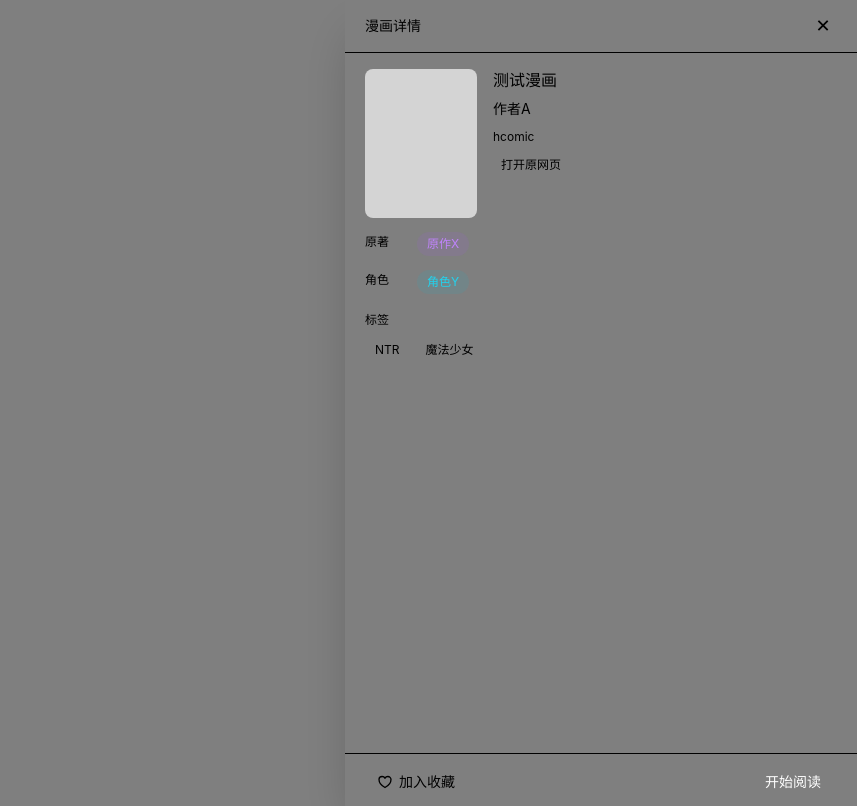
Test: ComicInfoDrawer - 点击 tag 加入搜索 › 连续点击多个标签都追加搜索且抽屉保持打开
Click the button "NTR": (387, 350) [365,338,410,362]
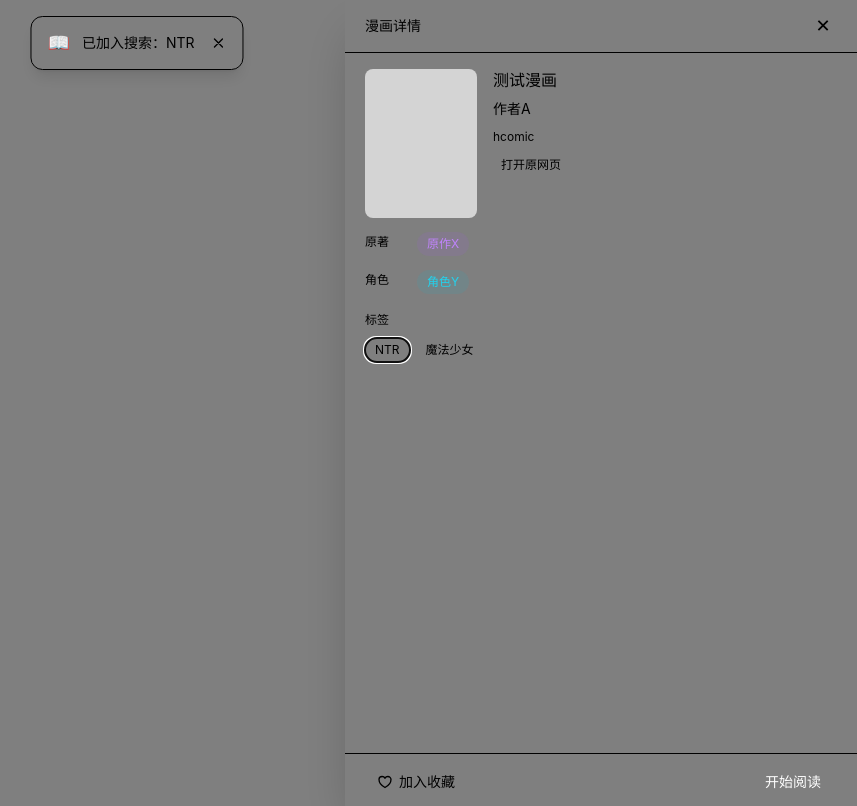
Click the button "魔法少女": (450, 350) [416,338,484,362]
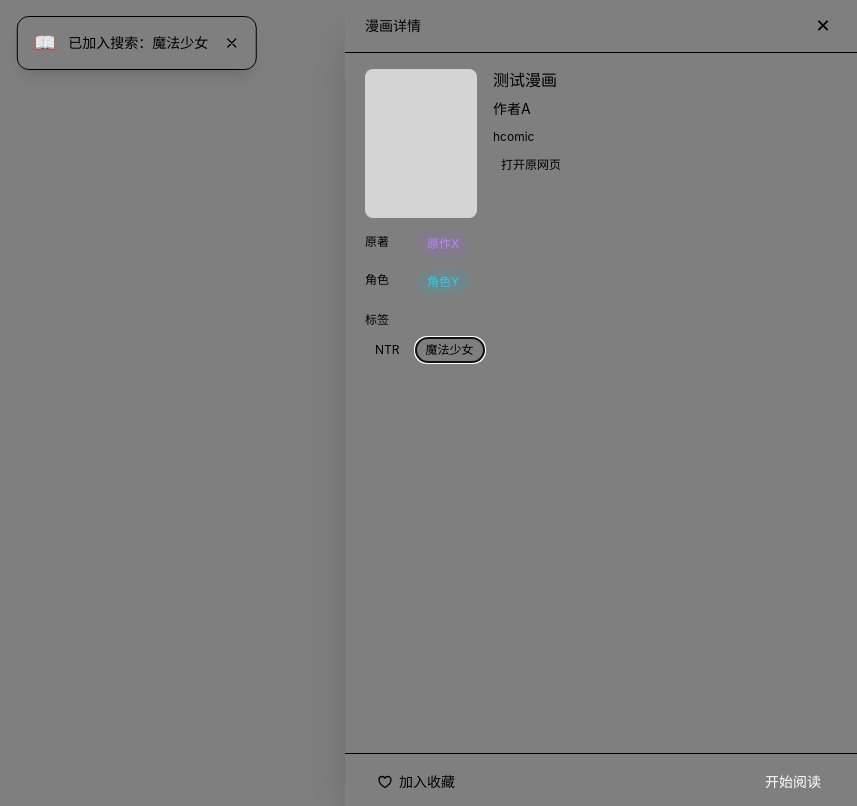
Expected: the text "已加入搜索：魔法少女" is shown, [68,33,208,53]
